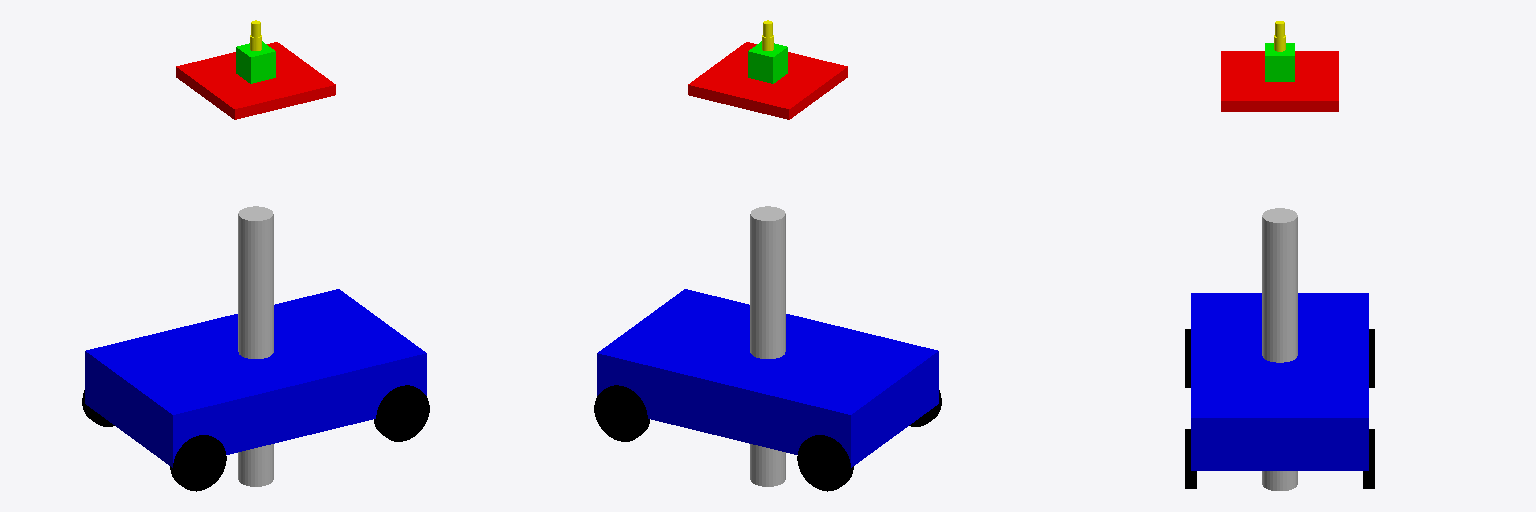
URDF robot description (artist_robot):
<?xml version="1.0"?>
<robot name="artist_robot">

  <!-- Звено: Корпус робота -->
  <link name="base_link">
    <visual>
      <geometry>
        <box size="0.5 0.3 0.1"/> <!-- Длина 0.5 м, ширина 0.3 м, высота 0.1 м -->
      </geometry>
      <material name="blue">
        <color rgba="0 0 1 1"/> <!-- Синий цвет -->
      </material>
    </visual>
    <collision>
      <geometry>
        <box size="0.5 0.3 0.1"/>
      </geometry>
    </collision>
    <inertial>
      <mass value="5.0"/> <!-- Масса 5 кг -->
      <inertia ixx="0.1" ixy="0.0" ixz="0.0" iyy="0.1" iyz="0.0" izz="0.1"/>
    </inertial>
  </link>

  <!-- Звенья: Промежуточные крепления для передних колес (для поворота) -->
  <link name="wheel_mount_1">
    <inertial>
      <mass value="0.1"/> <!-- Легкое крепление -->
      <inertia ixx="0.001" ixy="0.0" ixz="0.0" iyy="0.001" iyz="0.0" izz="0.001"/>
    </inertial>
  </link>
  <link name="wheel_mount_2">
    <inertial>
      <mass value="0.1"/>
      <inertia ixx="0.001" ixy="0.0" ixz="0.0" iyy="0.001" iyz="0.0" izz="0.001"/>
    </inertial>
  </link>

  <!-- Звенья: Колеса (4 штуки) -->
  <link name="wheel_1">
    <visual>
      <geometry>
        <cylinder radius="0.05" length="0.02"/> <!-- Радиус 5 см, толщина 2 см -->
      </geometry>
      <material name="black">
        <color rgba="0 0 0 1"/> <!-- Черный цвет -->
      </material>
    </visual>
    <collision>
      <geometry>
        <cylinder radius="0.05" length="0.02"/>
      </geometry>
    </collision>
    <inertial>
      <mass value="0.5"/> <!-- Масса 0.5 кг -->
      <inertia ixx="0.001" ixy="0.0" ixz="0.0" iyy="0.001" iyz="0.0" izz="0.001"/>
    </inertial>
  </link>
  <link name="wheel_2">
    <visual>
      <geometry>
        <cylinder radius="0.05" length="0.02"/>
      </geometry>
      <material name="black"/>
    </visual>
    <collision>
      <geometry>
        <cylinder radius="0.05" length="0.02"/>
      </geometry>
    </collision>
    <inertial>
      <mass value="0.5"/>
      <inertia ixx="0.001" ixy="0.0" ixz="0.0" iyy="0.001" iyz="0.0" izz="0.001"/>
    </inertial>
  </link>
  <link name="wheel_3">
    <visual>
      <geometry>
        <cylinder radius="0.05" length="0.02"/>
      </geometry>
      <material name="black"/>
    </visual>
    <collision>
      <geometry>
        <cylinder radius="0.05" length="0.02"/>
      </geometry>
    </collision>
    <inertial>
      <mass value="0.5"/>
      <inertia ixx="0.001" ixy="0.0" ixz="0.0" iyy="0.001" iyz="0.0" izz="0.001"/>
    </inertial>
  </link>
  <link name="wheel_4">
    <visual>
      <geometry>
        <cylinder radius="0.05" length="0.02"/>
      </geometry>
      <material name="black"/>
    </visual>
    <collision>
      <geometry>
        <cylinder radius="0.05" length="0.02"/>
      </geometry>
    </collision>
    <inertial>
      <mass value="0.5"/>
      <inertia ixx="0.001" ixy="0.0" ixz="0.0" iyy="0.001" iyz="0.0" izz="0.001"/>
    </inertial>
  </link>

  <link name="lift_arm">
    <visual>
        <geometry>
            <cylinder radius="0.03" length="0.5"/> <!-- Цилиндр 3 см радиус, 50 см длина -->
        </geometry>
        <material name="silver">
            <color rgba="0.8 0.8 0.8 1"/>
        </material>
    </visual>
    <collision>
        <geometry>
            <cylinder radius="0.03" length="0.5"/>
        </geometry>
    </collision>
    <inertial>
        <mass value="0.5"/>
        <inertia ixx="0.01" ixy="0.0" ixz="0.0" iyy="0.01" iyz="0.0" izz="0.01"/>
    </inertial>
  </link>

  <!-- Звено: Платформа кисти -->
  <link name="brush_platform">
    <visual>
      <geometry>
        <box size="0.2 0.2 0.02"/> <!-- Платформа 20x20x2 см -->
      </geometry>
      <material name="red">
        <color rgba="1 0 0 1"/> <!-- Красный цвет -->
      </material>
    </visual>
    <collision>
      <geometry>
        <box size="0.2 0.2 0.02"/>
      </geometry>
    </collision>
    <inertial>
      <mass value="0.2"/>
      <inertia ixx="0.001" ixy="0.0" ixz="0.0" iyy="0.001" iyz="0.0" izz="0.001"/>
    </inertial>
  </link>

  <!-- Звено: Рычаг кисти -->
  <link name="brush_arm">
    <visual>
      <geometry>
        <box size="0.05 0.05 0.1"/> <!-- Рычаг 5x5x10 см -->
      </geometry>
      <material name="green">
        <color rgba="0 1 0 1"/> <!-- Зеленый цвет -->
      </material>
    </visual>
    <collision>
      <geometry>
        <box size="0.05 0.05 0.1"/>
      </geometry>
    </collision>
    <inertial>
      <mass value="0.1"/>
      <inertia ixx="0.001" ixy="0.0" ixz="0.0" iyy="0.001" iyz="0.0" izz="0.001"/>
    </inertial>
  </link>

  <!-- Звено: Кончик кисти -->
  <link name="brush_tip">
    <visual>
      <geometry>
        <cylinder radius="0.01" length="0.05"/> <!-- Кончик 1 см радиус, 5 см длина -->
      </geometry>
      <material name="yellow">
        <color rgba="1 1 0 1"/> <!-- Желтый цвет -->
      </material>
    </visual>
    <collision>
      <geometry>
        <cylinder radius="0.01" length="0.05"/>
      </geometry>
    </collision>
    <inertial>
      <mass value="0.05"/>
      <inertia ixx="0.0001" ixy="0.0" ixz="0.0" iyy="0.0001" iyz="0.0" izz="0.0001"/>
    </inertial>
  </link>

  <!-- Звено: Выдвижная часть кисти -->
  <link name="brush_tip_extension">
    <visual>
      <geometry>
        <cylinder radius="0.008" length="0.05"/> <!-- Чуть меньше, 0.8 см радиус -->
      </geometry>
      <material name="yellow"/>
    </visual>
    <collision>
      <geometry>
        <cylinder radius="0.008" length="0.05"/>
      </geometry>
    </collision>
    <inertial>
      <mass value="0.03"/>
      <inertia ixx="0.0001" ixy="0.0" ixz="0.0" iyy="0.0001" iyz="0.0" izz="0.0001"/>
    </inertial>
  </link>

  <!-- Соединения -->

  <!-- Крепления передних колес к корпусу (revolute для поворота) -->
  <joint name="base_to_wheel_mount_1" type="revolute">
    <parent link="base_link"/>
    <child link="wheel_mount_1"/>
    <origin xyz="0.2 0.15 -0.05" rpy="0 0 0"/> <!-- Переднее левое -->
    <axis xyz="0 0 1"/> <!-- Поворот вокруг Z для руления -->
    <limit lower="-0.785" upper="0.785" effort="10" velocity="1"/> <!-- ±45° -->
  </joint>
  <joint name="base_to_wheel_mount_2" type="revolute">
    <parent link="base_link"/>
    <child link="wheel_mount_2"/>
    <origin xyz="0.2 -0.15 -0.05" rpy="0 0 0"/> <!-- Переднее правое -->
    <axis xyz="0 0 1"/> <!-- Поворот вокруг Z -->
    <limit lower="-0.785" upper="0.785" effort="10" velocity="1"/> <!-- ±45° -->
  </joint>

  <!-- Колеса к креплениям/корпусу (continuous для движения) -->
  <joint name="mount_1_to_wheel_1" type="continuous">
    <parent link="wheel_mount_1"/>
    <child link="wheel_1"/>
    <origin xyz="0 0 0" rpy="1.5708 0 0"/> <!-- Поворот на 90° вокруг X -->
    <axis xyz="0 0 1"/> <!-- Вращение вокруг локальной Y (глобальная Y) -->
  </joint>
  <joint name="mount_2_to_wheel_2" type="continuous">
    <parent link="wheel_mount_2"/>
    <child link="wheel_2"/>
    <origin xyz="0 0 0" rpy="1.5708 0 0"/> <!-- Поворот на 90° вокруг X -->
    <axis xyz="0 0 1"/> <!-- Вращение вокруг локальной Y -->
  </joint>
  <joint name="base_to_wheel_3" type="continuous">
    <parent link="base_link"/>
    <child link="wheel_3"/>
    <origin xyz="-0.2 0.15 -0.05" rpy="1.5708 0 0"/> <!-- Заднее левое -->
    <axis xyz="0 0 1"/> <!-- Вращение вокруг локальной Y -->
  </joint>
  <joint name="base_to_wheel_4" type="continuous">
    <parent link="base_link"/>
    <child link="wheel_4"/>
    <origin xyz="-0.2 -0.15 -0.05" rpy="1.5708 0 0"/> <!-- Заднее правое -->
    <axis xyz="0 0 1"/> <!-- Вращение вокруг локальной Y -->
  </joint>

  <joint name="base_to_lift_arm" type="prismatic">
    <parent link="base_link"/>
    <child link="lift_arm"/>
    <origin xyz="0 0 0.06" rpy="0 0 0"/>
    <axis xyz="0 0 1"/> <!-- Движение по Z -->
    <limit lower="0" upper="0.5" effort="20" velocity="0.2"/> <!-- 0–50 см -->
  </joint>
  <joint name="lift_arm_to_brush_platform" type="fixed">
      <parent link="lift_arm"/>
      <child link="brush_platform"/>
      <origin xyz="0 0 0.5"/> <!-- На вершине цилиндра -->
  </joint>

  <!-- Рычаг кисти к платформе (planar joint) -->
  <joint name="platform_to_brush_arm" type="planar">
    <parent link="brush_platform"/>
    <child link="brush_arm"/>
    <origin xyz="0 0 0.01"/> <!-- Слегка выше платформы -->
    <axis xyz="0 0 1"/> <!-- Движение в плоскости XY -->
    <limit effort="10" velocity="0.1" lower="-0.1" upper="0.1"/> <!-- Ограничение ±10 см -->
  </joint>

  <!-- Кончик кисти к рычагу (revolute joint) -->
  <joint name="arm_to_brush_tip" type="revolute">
    <parent link="brush_arm"/>
    <child link="brush_tip"/>
    <origin xyz="0 0 0.05" rpy="0 0 0"/> <!-- На конце рычага -->
    <axis xyz="1 0 0"/> <!-- Вращение вокруг оси X -->
    <limit lower="-1.57" upper="1.57" effort="10" velocity="1"/> <!-- ±90° -->
  </joint>

  <!-- Выдвижение кончика кисти (prismatic joint) -->
  <joint name="brush_tip_to_extension" type="prismatic">
    <parent link="brush_tip"/>
    <child link="brush_tip_extension"/>
    <origin xyz="0 0 0.025"/> <!-- Смещение на половину длины brush_tip -->
    <axis xyz="0 0 1"/> <!-- Выдвижение по оси Z -->
    <limit lower="0" upper="0.1" effort="10" velocity="0.1"/> <!-- Выдвижение до 5 см -->
  </joint>

</robot>

--- Render facts (derived) ---
The picture shows the robot from 3 angles, left to right: view 1: azimuth 30°, elevation 25°; view 2: azimuth 150°, elevation 25°; view 3: azimuth 270°, elevation 25°; orthographic projection.
Model artist_robot with 12 links and 11 joints (3 revolute, 4 continuous, 2 prismatic, 1 fixed, 1 planar), rooted at base_link, posed every joint at zero.
Visible links, largest first — view 1: base_link, lift_arm, brush_platform, wheel_4, wheel_2, brush_arm; view 2: base_link, lift_arm, brush_platform, wheel_3, wheel_1, brush_arm; view 3: base_link, brush_platform, lift_arm, brush_arm.
Link boxes in pixels (x1,y1,x2,y2): base_link: (85,289,426,467); lift_arm: (238,206,273,486); brush_platform: (176,42,335,119); wheel_4: (170,435,226,491); wheel_2: (374,385,429,441); brush_arm: (236,41,275,83); base_link: (597,289,938,467); lift_arm: (750,206,785,486); brush_platform: (688,42,847,119); wheel_3: (797,435,853,491); wheel_1: (594,385,649,441); brush_arm: (748,41,787,83); base_link: (1191,293,1368,470); brush_platform: (1221,51,1338,111); lift_arm: (1262,208,1297,490); brush_arm: (1265,43,1294,81).
Bounding box of the posed robot: 0.5 × 0.32 × 0.86 m (x, y, z).
Geometry: primitives only (box / cylinder / sphere), no mesh files.